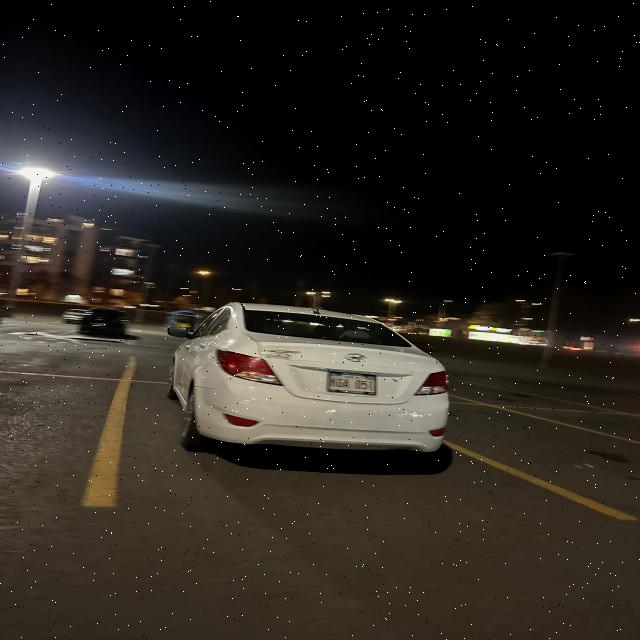plaque: (328, 372, 376, 394)
